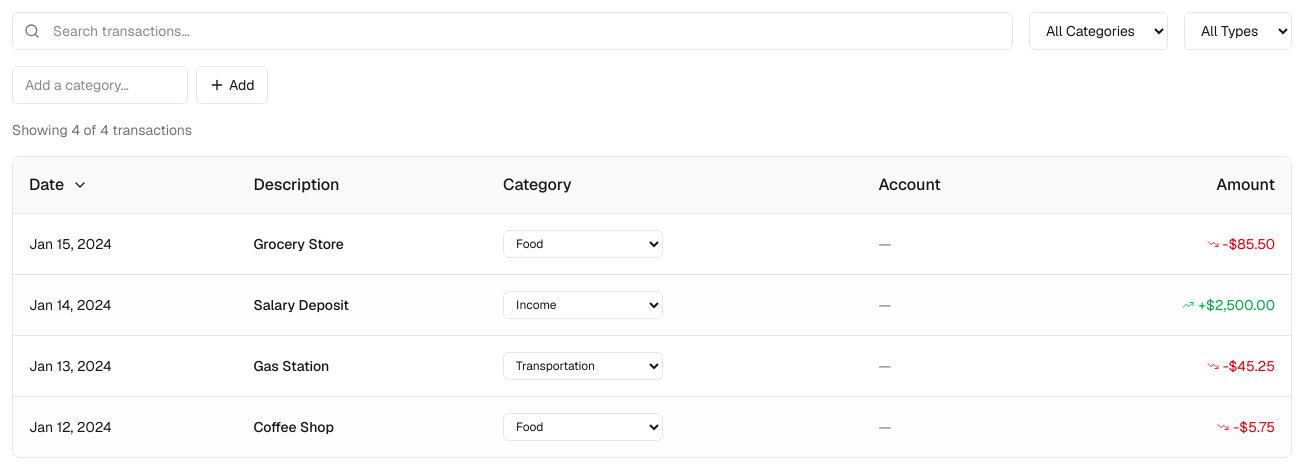
Test: TransactionTable › filters transactions by type
Step 1. Select "Income" in the dropdown named "Filter by type" → (1238, 31), box [1184,12,1292,50]
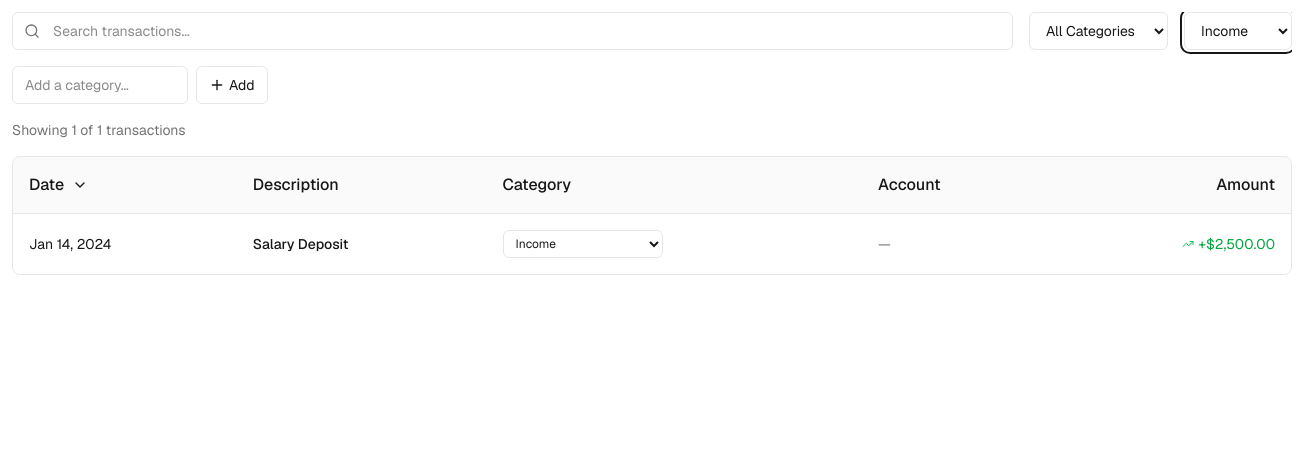
Expected: the text "Salary Deposit" is shown, [237,214,487,274]
Result: the text "Grocery Store" is gone
Result: the text "Showing 1 of 1 transactions" is shown at [12,121,186,139]
